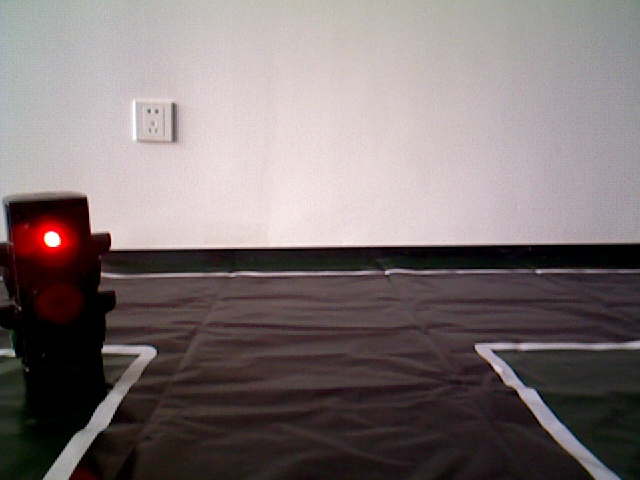red: (7, 197, 110, 389)
